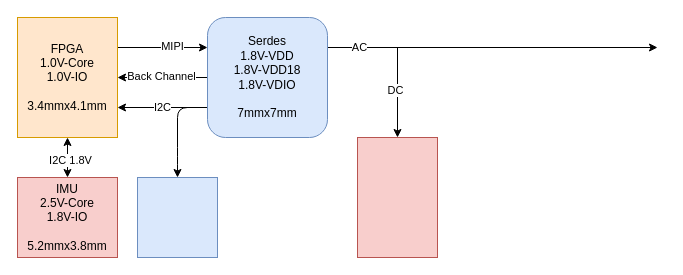
Some shapes in this 683 by 275 pixel diagram are drawn without their labels. The centre of each missing label's shape, as x and y in pixels:
EEPROM 1.8V 3mmx3mm: the point at 177,217
PWR 2.5V 1.8V 1.0V: the point at 397,197
